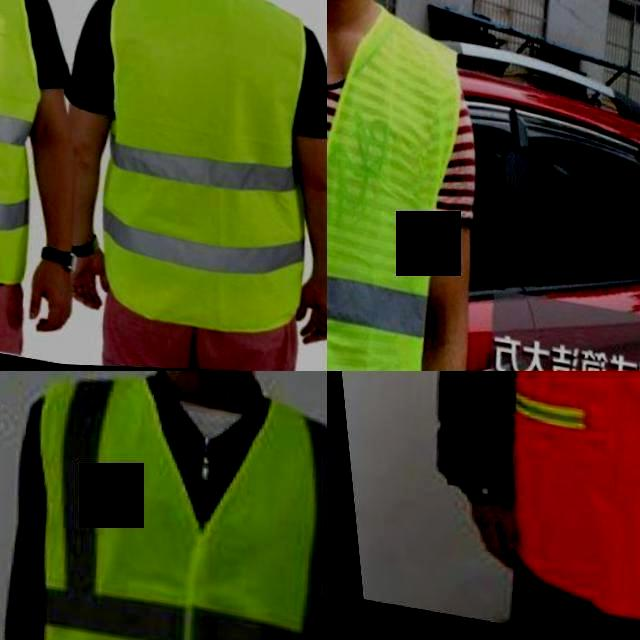vest: (64, 0, 327, 349), (0, 386, 327, 640), (327, 2, 477, 371), (452, 371, 640, 638)
